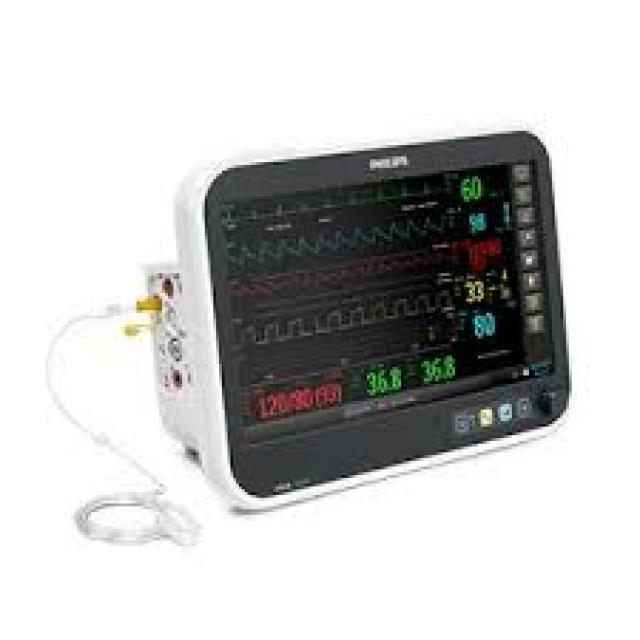cardiac_monitor: (174, 148, 595, 487)
